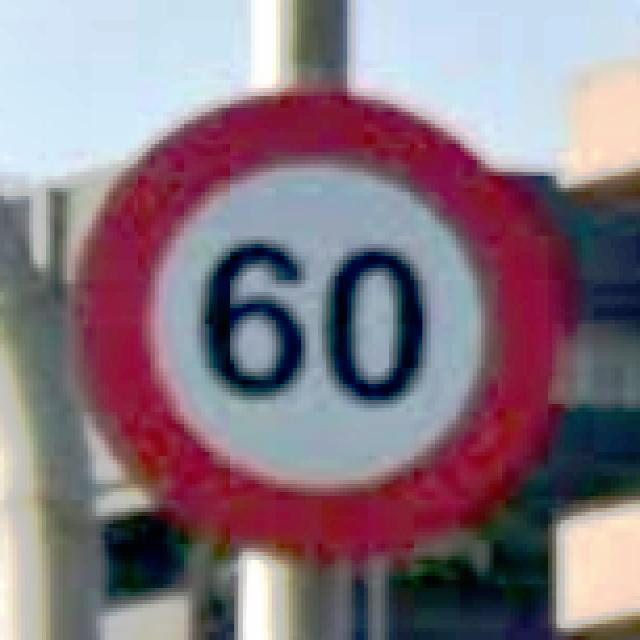max60: (63, 76, 573, 564)
